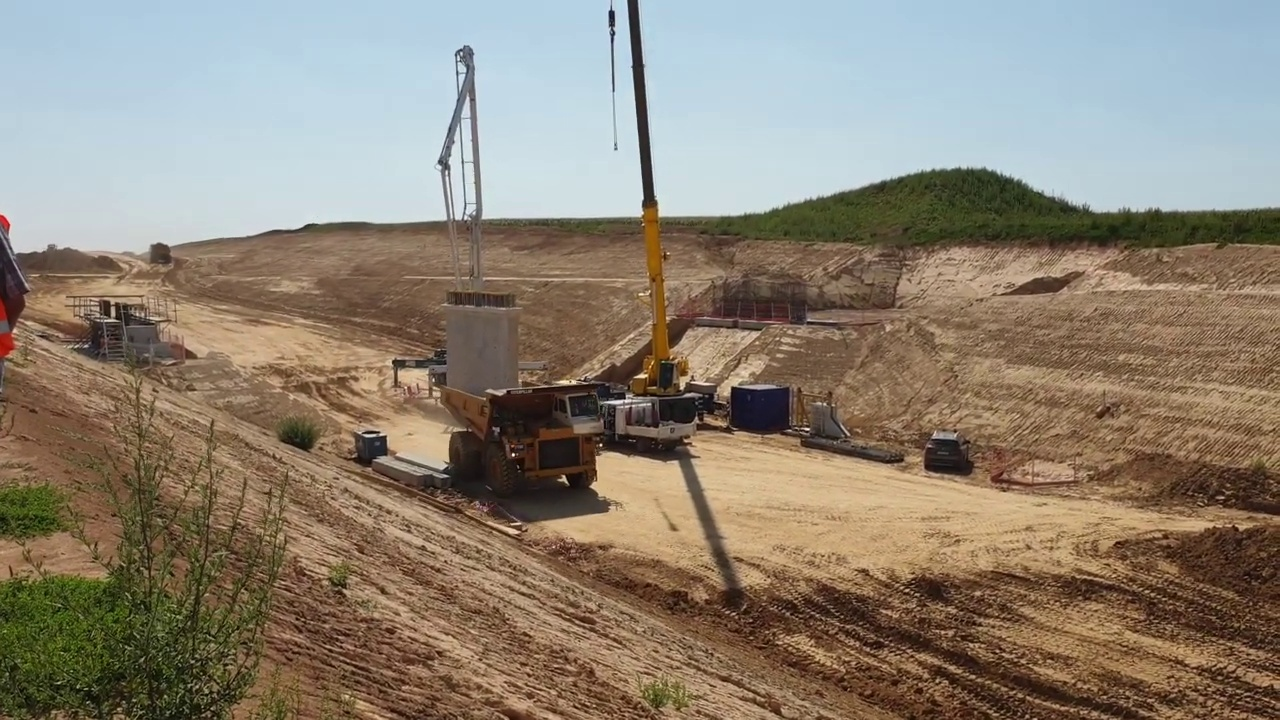crane: (587, 1, 705, 462)
truck: (426, 375, 615, 502)
